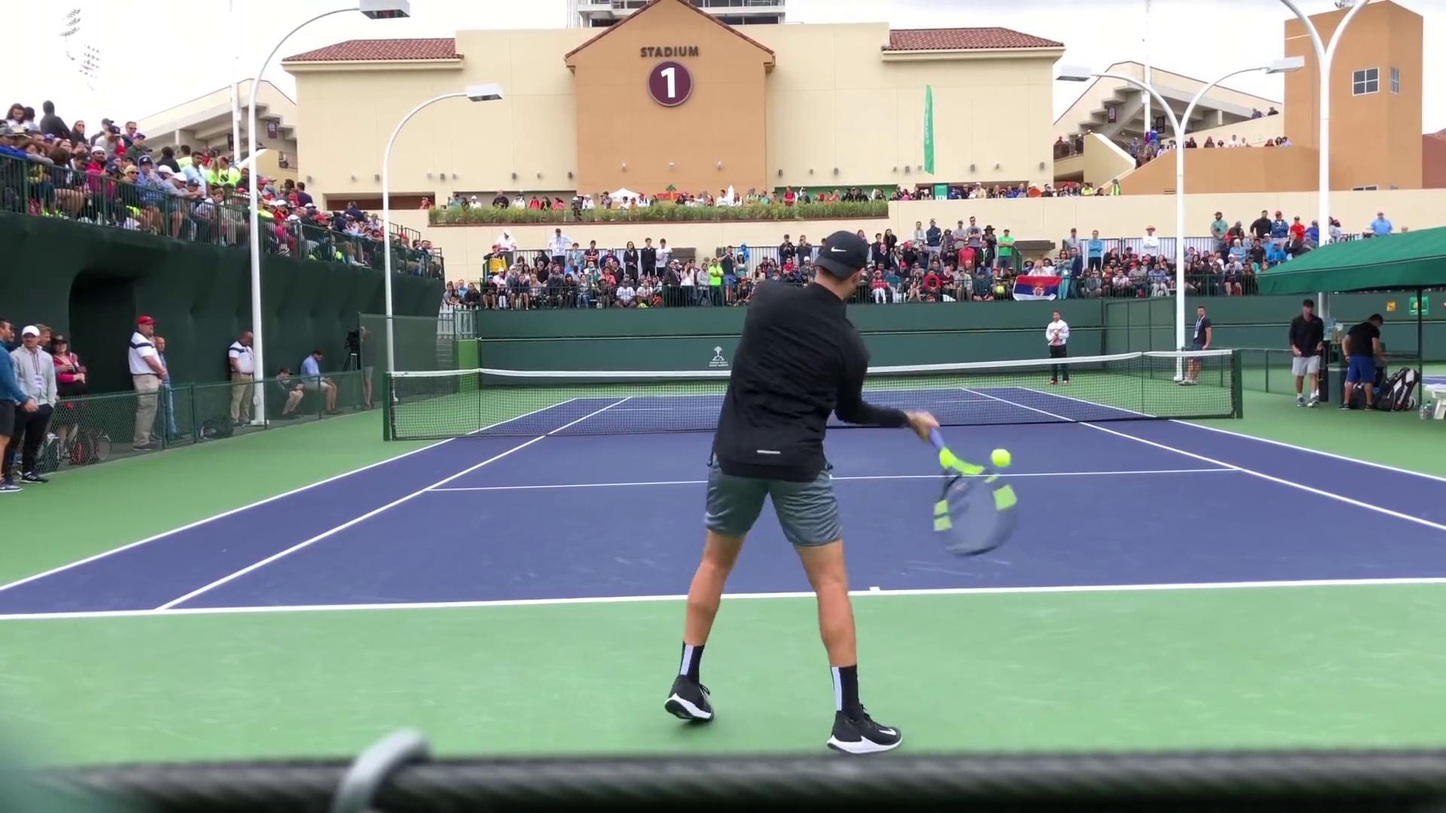ball: (987, 448, 1013, 468)
